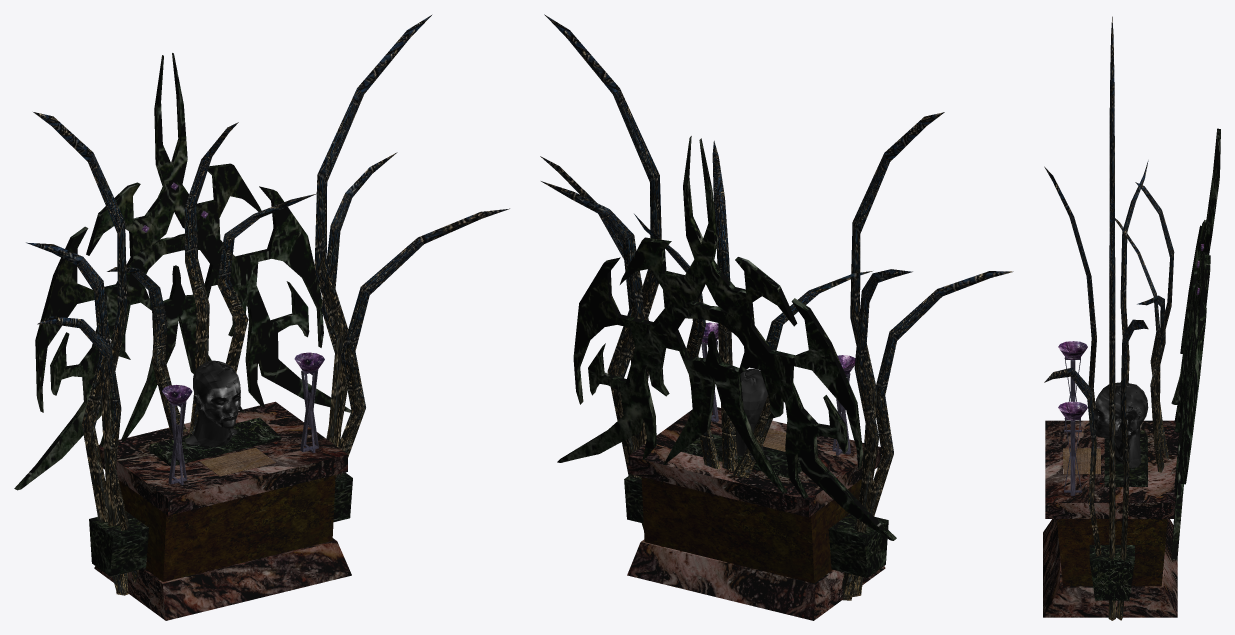
The model's file is DarkAltar.fbx.
3 renders of one model, left to right at view 1: azimuth 30°, elevation 25°; view 2: azimuth 150°, elevation 25°; view 3: azimuth 270°, elevation 25°, orthographic. The views are drawn at different scales.
Visible parts, largest first — view 1: Mesh1; view 2: Mesh1; view 3: Mesh1.
Part boxes in pixels (bbox=[...]): Mesh1: bbox=[14, 14, 509, 620]; Mesh1: bbox=[540, 14, 1013, 620]; Mesh1: bbox=[1043, 16, 1220, 620].
Bounding box in the file's own units: 18.53 × 18.91 × 6.41.
